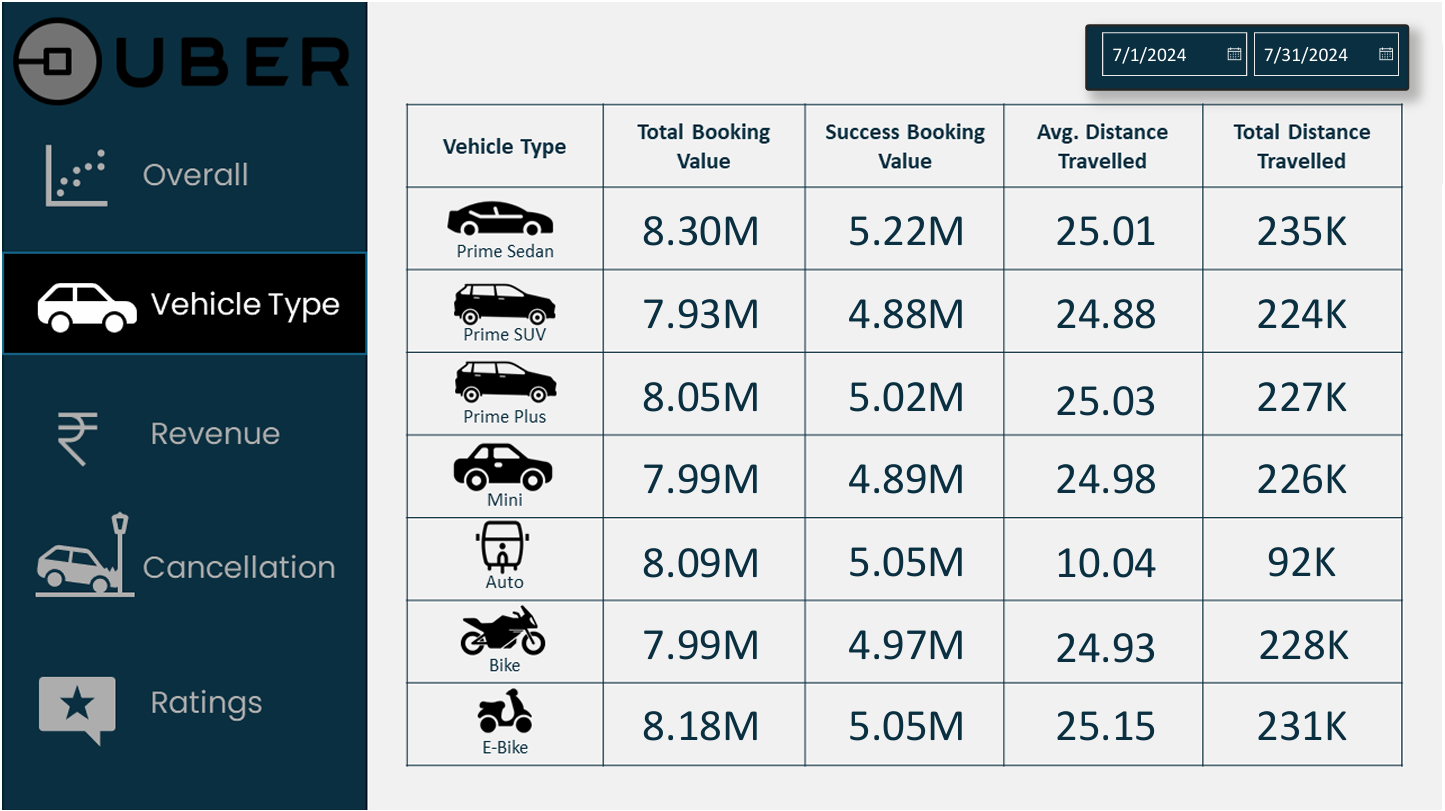

The dashboard page shown, as its layout file describes it:
{"tool":"powerbi","page":{"name":"Vehicle Type","canvas":[1280,720],"ordinal":1},"visuals":[{"type":"actionButton","box":[0,337.6,322.5,89.2],"z":0},{"type":"actionButton","box":[0,447.3,322.5,89.2],"z":1000},{"type":"actionButton","box":[0,575,322.5,89.2],"z":2000},{"type":"actionButton","box":[0,114.6,323.3,89.3],"z":3000},{"type":"card","fields":{"Values":["Sum(Bookings.Booking_Value)"]},"box":[540.7,166,160.5,65.9],"z":4000},{"type":"card","fields":{"Values":["Sum(Bookings.Booking_Value)"]},"box":[540.7,461.1,160.5,65.9],"z":5000},{"type":"card","fields":{"Values":["Sum(Bookings.Booking_Value)"]},"box":[540.7,533.8,160.5,65.9],"z":6000},{"type":"card","fields":{"Values":["Sum(Bookings.Booking_Value)"]},"box":[540.7,606.5,160.5,65.9],"z":7000},{"type":"card","fields":{"Values":["Sum(Bookings.Booking_Value)"]},"box":[540.7,314.2,160.5,65.9],"z":8000},{"type":"card","fields":{"Values":["Sum(Bookings.Booking_Value)"]},"box":[540.7,387,160.5,65.9],"z":9000},{"type":"card","fields":{"Values":["Sum(Bookings.Booking_Value)"]},"box":[540.7,240.1,160.5,65.9],"z":10000},{"type":"card","fields":{"Values":["Sum(Bookings.Booking_Value)"]},"box":[723.2,166,160.5,65.9],"z":11000},{"type":"card","fields":{"Values":["Sum(Bookings.Booking_Value)"]},"box":[723.2,240.1,160.5,65.9],"z":12000},{"type":"card","fields":{"Values":["Sum(Bookings.Booking_Value)"]},"box":[723.2,314.2,160.5,65.9],"z":13000},{"type":"card","fields":{"Values":["Sum(Bookings.Booking_Value)"]},"box":[723.2,387,160.5,65.9],"z":14000},{"type":"card","fields":{"Values":["Sum(Bookings.Booking_Value)"]},"box":[723.2,459.7,160.5,65.9],"z":15000},{"type":"card","fields":{"Values":["Sum(Bookings.Booking_Value)"]},"box":[723.2,533.8,160.5,65.9],"z":16000},{"type":"card","fields":{"Values":["Sum(Bookings.Booking_Value)"]},"box":[723.2,606.5,160.5,65.9],"z":17000},{"type":"card","fields":{"Values":["Avg(Bookings.Ride_Distance)"]},"box":[900.2,166,160.5,65.9],"z":18000},{"type":"card","fields":{"Values":["Avg(Bookings.Ride_Distance)"]},"box":[900.2,240.1,160.5,65.9],"z":19000},{"type":"card","fields":{"Values":["Avg(Bookings.Ride_Distance)"]},"box":[900.2,317,160.5,65.9],"z":20000},{"type":"card","fields":{"Values":["Avg(Bookings.Ride_Distance)"]},"box":[900.2,387,160.5,65.9],"z":21000},{"type":"card","fields":{"Values":["Avg(Bookings.Ride_Distance)"]},"box":[900.2,461.1,160.5,65.9],"z":22000},{"type":"card","fields":{"Values":["Avg(Bookings.Ride_Distance)"]},"box":[900.2,536.5,160.5,65.9],"z":23000},{"type":"card","fields":{"Values":["Avg(Bookings.Ride_Distance)"]},"box":[900.2,606.5,160.5,65.9],"z":24000},{"type":"card","fields":{"Values":["Sum(Bookings.Ride_Distance)"]},"box":[1074.4,166,160.5,65.9],"z":25000},{"type":"card","fields":{"Values":["Sum(Bookings.Ride_Distance)"]},"box":[1074.4,240.1,160.5,65.9],"z":26000},{"type":"card","fields":{"Values":["Sum(Bookings.Ride_Distance)"]},"box":[1074.4,314.2,160.5,65.9],"z":27000},{"type":"card","fields":{"Values":["Sum(Bookings.Ride_Distance)"]},"box":[1074.4,387,160.5,65.9],"z":28000},{"type":"card","fields":{"Values":["Sum(Bookings.Ride_Distance)"]},"box":[1074.4,459.7,160.5,65.9],"z":29000},{"type":"card","fields":{"Values":["Sum(Bookings.Ride_Distance)"]},"box":[1075.8,533.8,160.5,65.9],"z":30000},{"type":"card","fields":{"Values":["Sum(Bookings.Ride_Distance)"]},"box":[1074.4,606.5,160.5,65.9],"z":31000},{"type":"slicer","title":"Date ","fields":{"Values":["Bookings.Date"]},"box":[961.9,19.2,288.2,59],"z":32000}]}

Visuals, with their boxes in screenshot pixels (x1, y1, x2, y2), scaled from the page's 1280x720 canvas onto the 1445x811 screenshot:
actionButton: [0, 380, 364, 481]
actionButton: [0, 504, 364, 604]
actionButton: [0, 648, 364, 748]
actionButton: [0, 129, 365, 230]
card - Sum(Bookings.Booking_Value): [610, 187, 792, 261]
card - Sum(Bookings.Booking_Value): [610, 519, 792, 594]
card - Sum(Bookings.Booking_Value): [610, 601, 792, 675]
card - Sum(Bookings.Booking_Value): [610, 683, 792, 757]
card - Sum(Bookings.Booking_Value): [610, 354, 792, 428]
card - Sum(Bookings.Booking_Value): [610, 436, 792, 510]
card - Sum(Bookings.Booking_Value): [610, 270, 792, 345]
card - Sum(Bookings.Booking_Value): [816, 187, 998, 261]
card - Sum(Bookings.Booking_Value): [816, 270, 998, 345]
card - Sum(Bookings.Booking_Value): [816, 354, 998, 428]
card - Sum(Bookings.Booking_Value): [816, 436, 998, 510]
card - Sum(Bookings.Booking_Value): [816, 518, 998, 592]
card - Sum(Bookings.Booking_Value): [816, 601, 998, 675]
card - Sum(Bookings.Booking_Value): [816, 683, 998, 757]
card - Avg(Bookings.Ride_Distance): [1016, 187, 1197, 261]
card - Avg(Bookings.Ride_Distance): [1016, 270, 1197, 345]
card - Avg(Bookings.Ride_Distance): [1016, 357, 1197, 431]
card - Avg(Bookings.Ride_Distance): [1016, 436, 1197, 510]
card - Avg(Bookings.Ride_Distance): [1016, 519, 1197, 594]
card - Avg(Bookings.Ride_Distance): [1016, 604, 1197, 679]
card - Avg(Bookings.Ride_Distance): [1016, 683, 1197, 757]
card - Sum(Bookings.Ride_Distance): [1213, 187, 1394, 261]
card - Sum(Bookings.Ride_Distance): [1213, 270, 1394, 345]
card - Sum(Bookings.Ride_Distance): [1213, 354, 1394, 428]
card - Sum(Bookings.Ride_Distance): [1213, 436, 1394, 510]
card - Sum(Bookings.Ride_Distance): [1213, 518, 1394, 592]
card - Sum(Bookings.Ride_Distance): [1214, 601, 1396, 675]
card - Sum(Bookings.Ride_Distance): [1213, 683, 1394, 757]
"Date " slicer: [1086, 22, 1411, 88]
